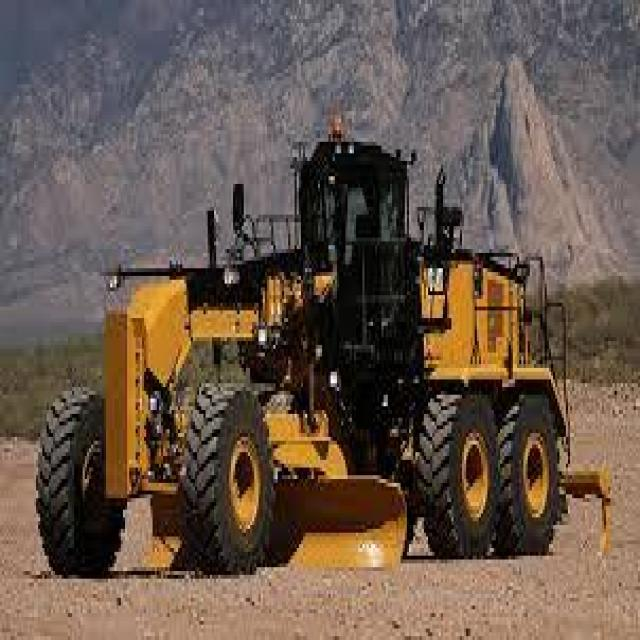Grader: (38, 126, 638, 617)
